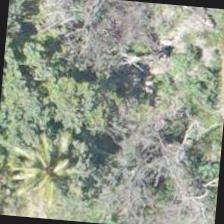Kelapa_Sawit: (0, 114, 92, 213)
